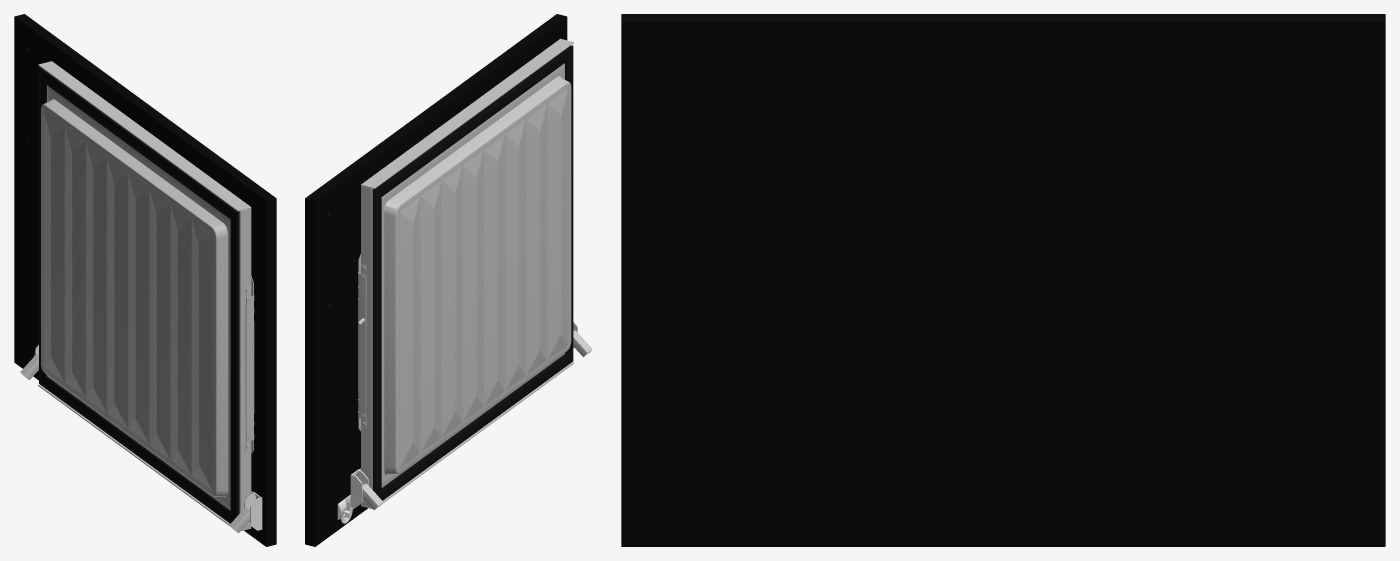
File: FridgeDoor02.obj
3 views of the same model, side by side, from view 1: azimuth 30°, elevation 25°; view 2: azimuth 150°, elevation 25°; view 3: azimuth 270°, elevation 25° (orthographic). The views are drawn at different scales.
Parts seen in each view (by area): view 1: FridgeDoor02; view 2: FridgeDoor02; view 3: FridgeDoor02.
Part boxes in pixels (x1=…): FridgeDoor02: x1=14, y1=14, x2=276, y2=546; FridgeDoor02: x1=305, y1=14, x2=592, y2=546; FridgeDoor02: x1=621, y1=14, x2=1385, y2=546.
Size of the model in its own units: 0.074 by 0.5969 by 0.7865.
4 materials, 1 textured.
